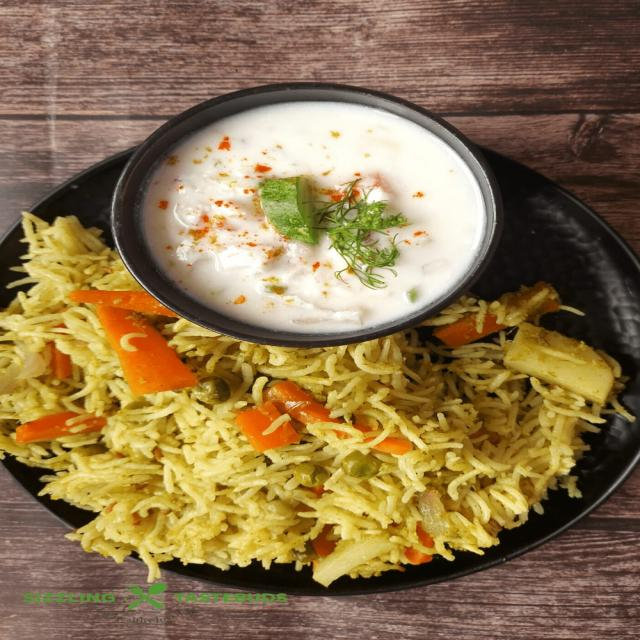veg palav: (0, 201, 640, 598)
